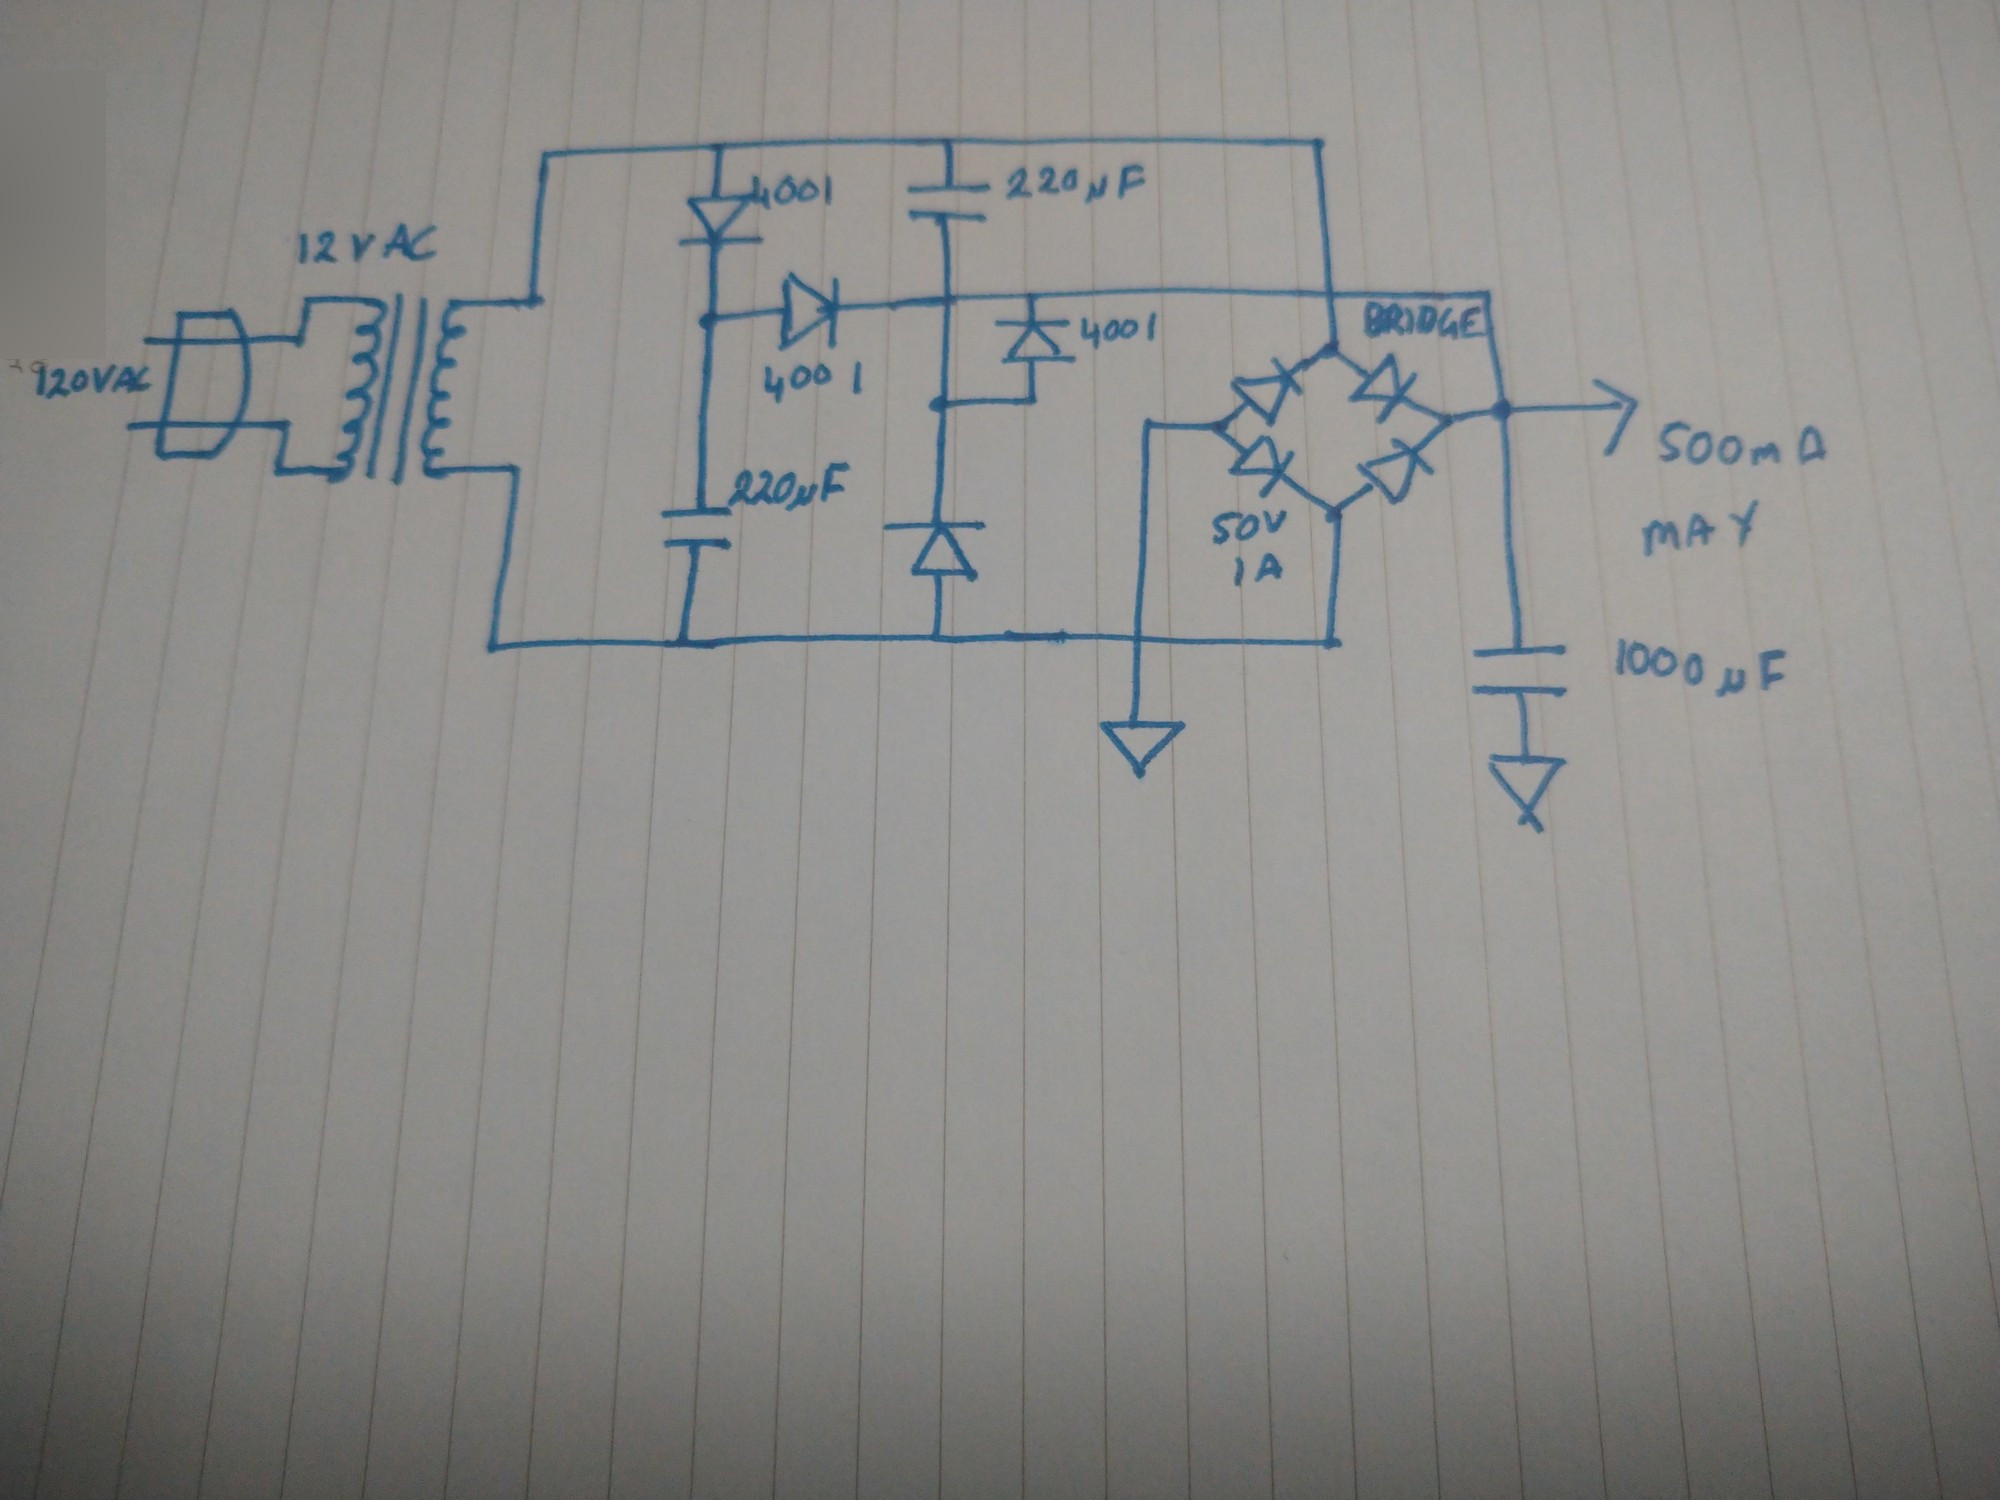capacitor.unpolarized: (1468, 633, 1586, 703), (898, 180, 995, 225), (658, 504, 735, 551)
crossover: (1124, 629, 1151, 649), (1317, 285, 1342, 306), (939, 288, 959, 310)
diode: (879, 515, 989, 585), (773, 265, 850, 358), (1354, 435, 1438, 507), (672, 191, 767, 251), (1346, 348, 1419, 425), (1230, 356, 1306, 427), (984, 315, 1079, 370), (1227, 433, 1298, 499)
junction: (1313, 337, 1346, 366), (926, 391, 954, 418), (694, 306, 721, 334), (1435, 405, 1461, 432), (1490, 395, 1515, 424), (1323, 501, 1346, 526), (1205, 418, 1230, 441), (1302, 132, 1328, 154), (1135, 411, 1161, 433), (1320, 629, 1342, 652), (672, 630, 694, 652), (521, 291, 545, 312), (1016, 288, 1039, 307), (485, 635, 504, 659), (1020, 391, 1041, 411), (710, 139, 731, 159), (539, 145, 557, 165), (926, 629, 946, 648), (939, 134, 957, 151), (290, 331, 309, 348), (1476, 287, 1493, 304), (276, 416, 294, 432), (510, 460, 526, 477), (269, 462, 287, 477), (299, 291, 317, 307)
socket: (153, 306, 257, 466)
terminal: (1483, 752, 1576, 837), (1096, 717, 1191, 780), (1587, 375, 1643, 460), (132, 329, 159, 353), (120, 416, 143, 440)
text: (1611, 633, 1797, 703), (1655, 418, 1831, 473), (1638, 496, 1767, 567), (726, 455, 865, 514), (1002, 158, 1154, 206), (294, 222, 441, 269), (754, 358, 866, 408), (28, 362, 154, 402), (1362, 303, 1487, 342), (748, 172, 843, 214), (1076, 310, 1165, 353), (1209, 507, 1288, 547), (1231, 550, 1283, 589)
transformer: (324, 291, 472, 492)
